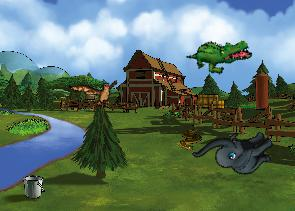crocodile: (185, 24, 254, 85)
eagle: (68, 66, 125, 118)
elephant: (191, 108, 280, 195)
